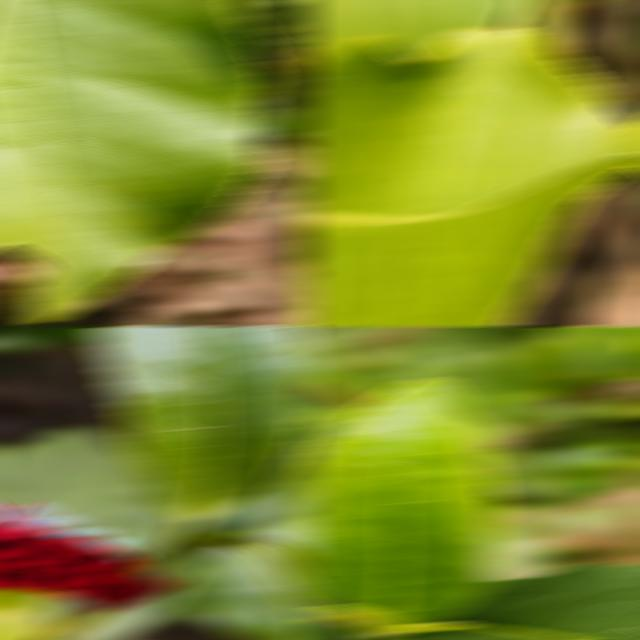Leaf: (299, 26, 640, 326), (0, 0, 275, 321), (299, 379, 502, 622), (90, 326, 315, 526), (0, 425, 188, 552), (382, 564, 640, 640), (299, 0, 528, 59), (172, 546, 315, 640), (243, 539, 315, 615), (253, 461, 315, 520)
